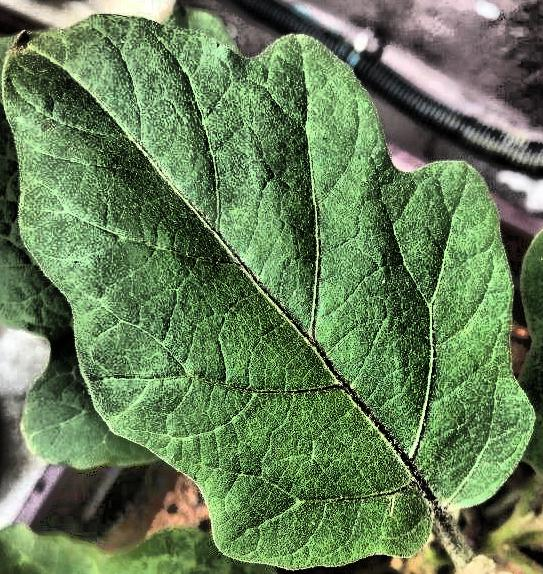HEALTHY: (0, 1, 543, 574)
